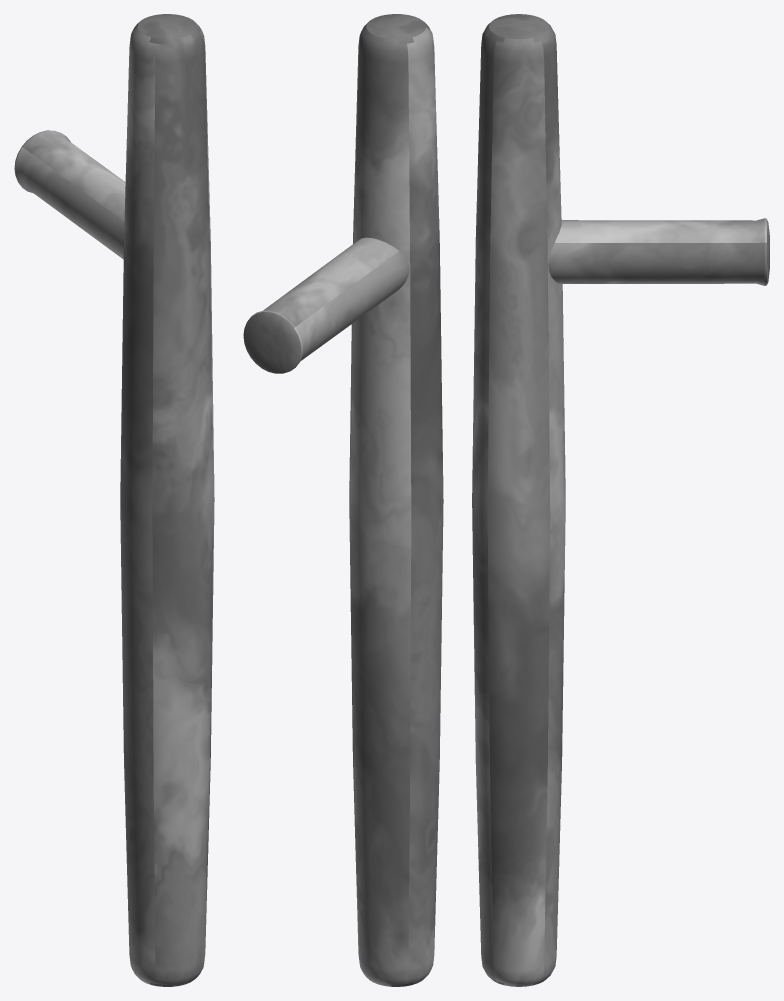
The model's file is SM_small_stick.fbx.
3 renders of one model, left to right at view 1: azimuth 30°, elevation 25°; view 2: azimuth 150°, elevation 25°; view 3: azimuth 270°, elevation 25°, orthographic.
Visible parts, largest first — view 1: SM_small_stick; view 2: SM_small_stick; view 3: SM_small_stick.
Boxes of the visible parts, x1,y1,x2,y2 form: SM_small_stick: (14,14,214,986); SM_small_stick: (243,14,443,986); SM_small_stick: (472,14,769,986).
Bounding box in the file's own units: 6.03 × 19.04 × 67.34.
1 material, 1 textured.
